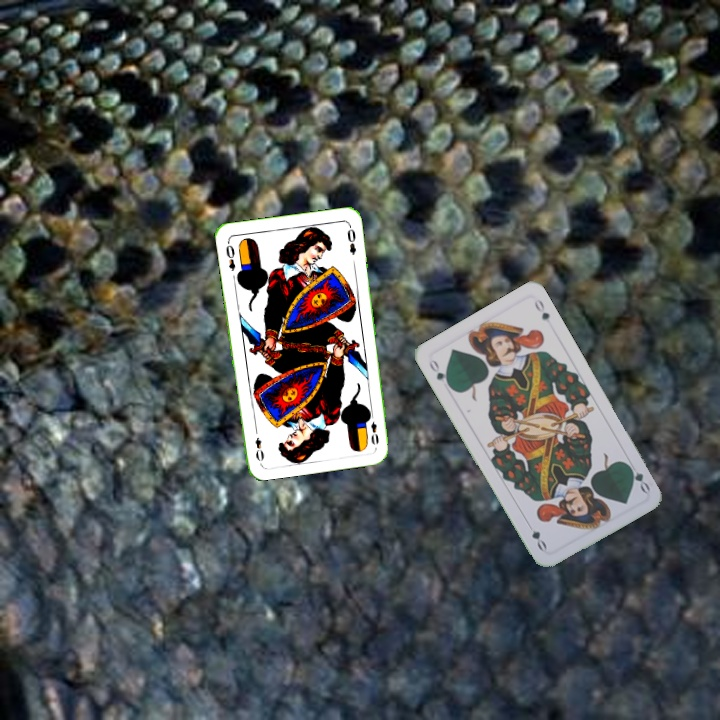EO: (364, 408, 381, 448), (222, 237, 238, 273)
GO: (622, 457, 653, 495), (425, 355, 454, 390)
